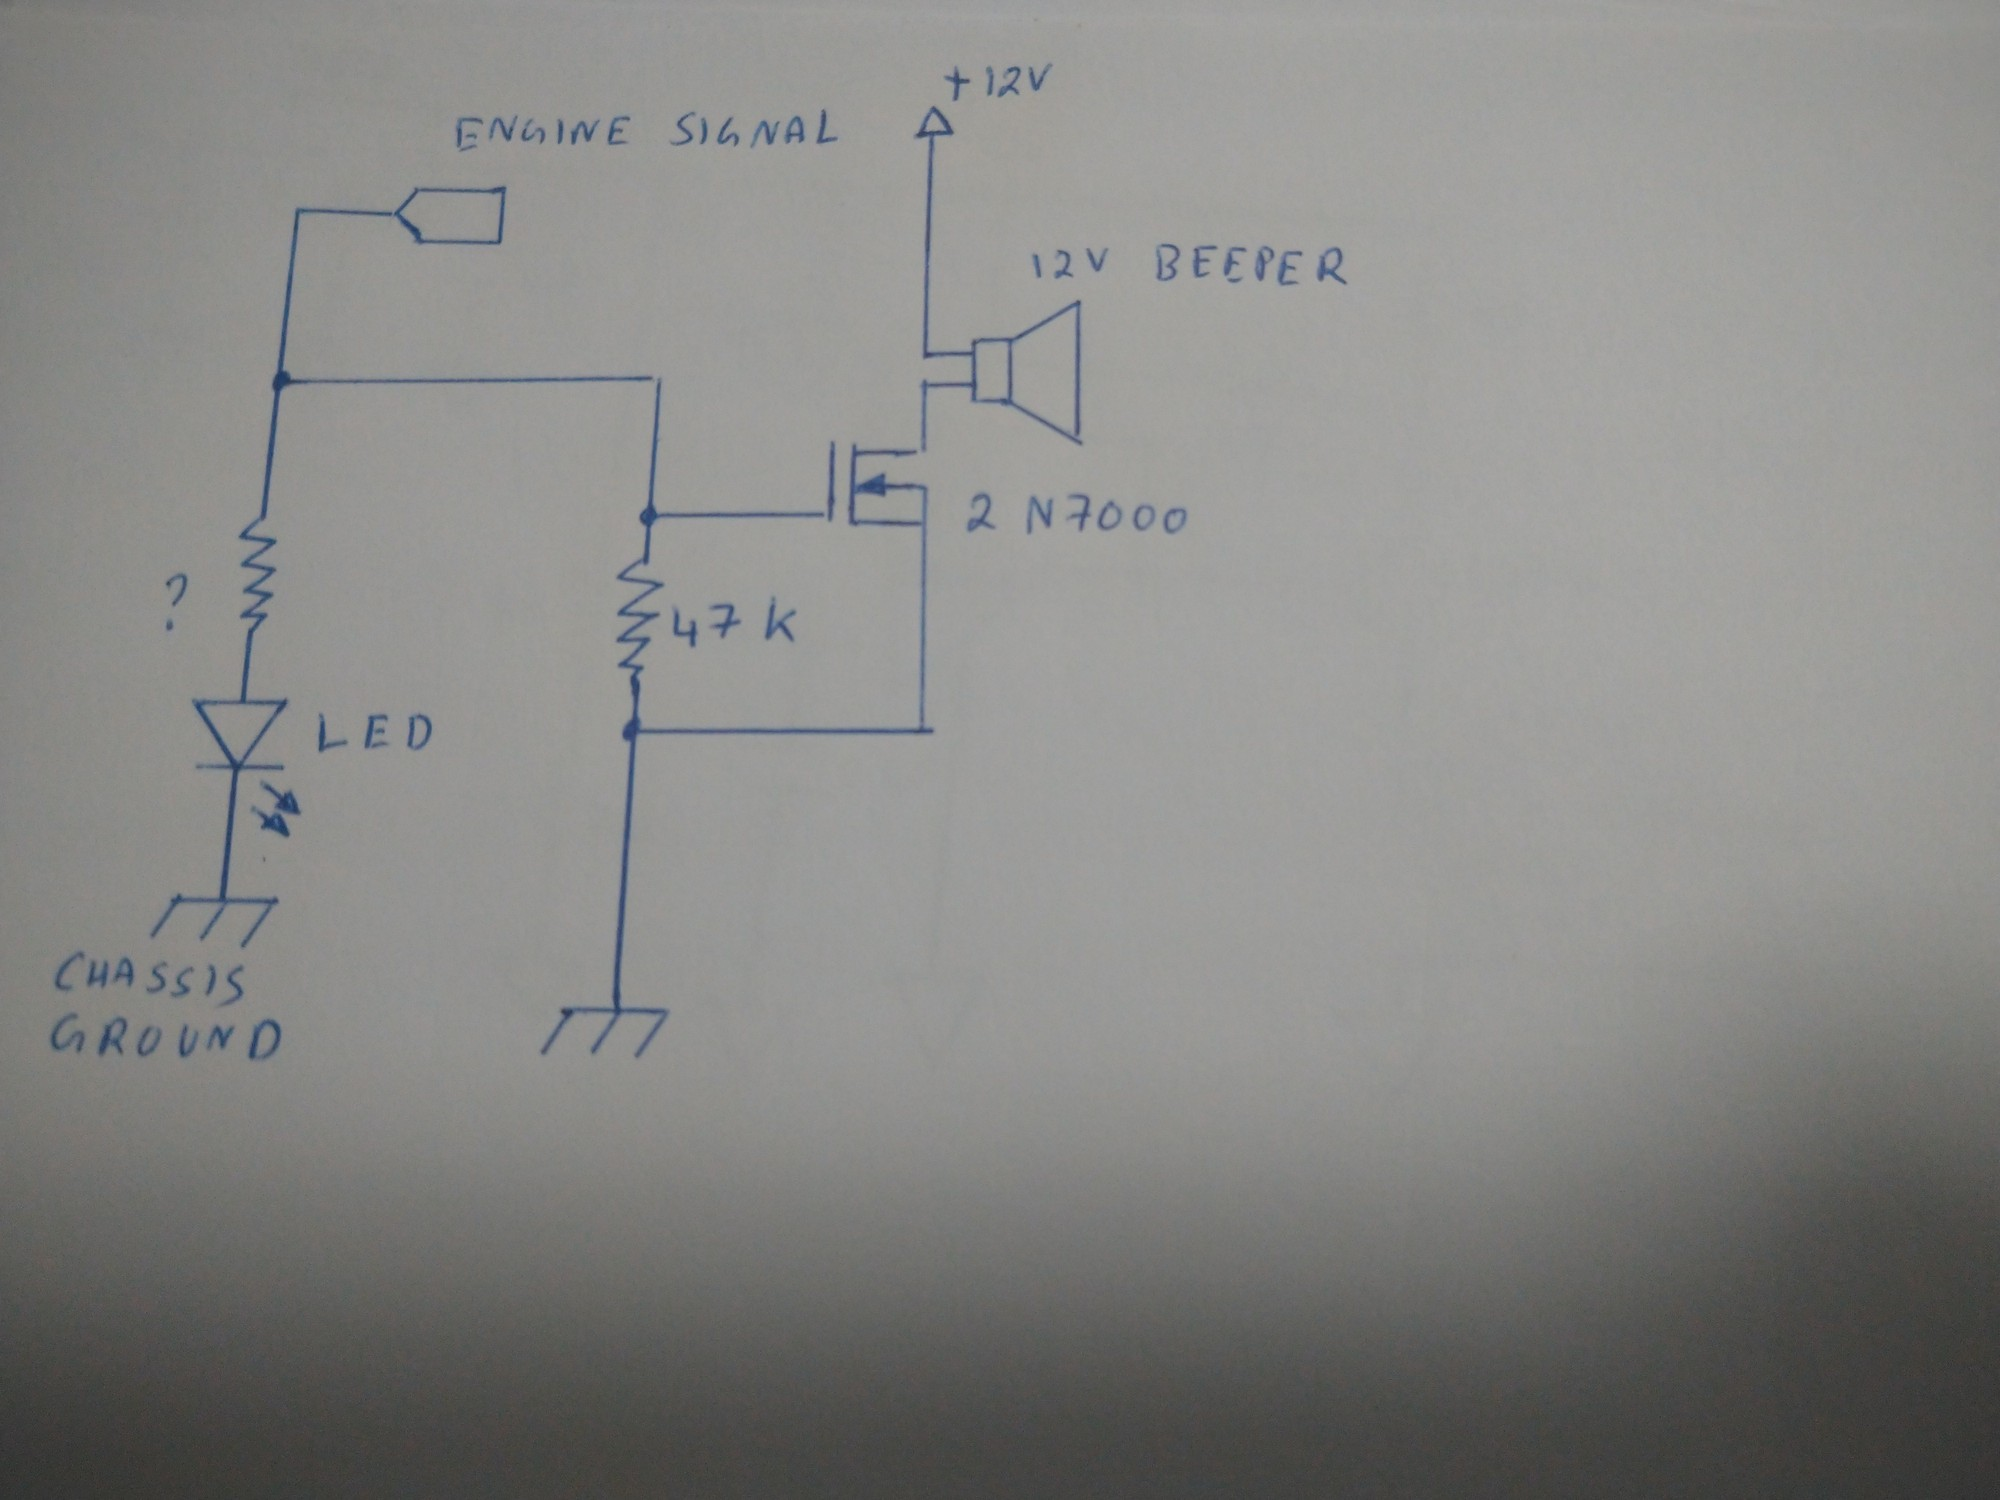diode.light_emitting: (184, 693, 306, 843)
gnd: (534, 1002, 676, 1064), (148, 890, 283, 953)
junction: (266, 364, 294, 397), (619, 712, 647, 744), (910, 715, 940, 744), (635, 499, 661, 529), (646, 369, 669, 391), (917, 340, 939, 364), (290, 200, 310, 224), (918, 377, 939, 397)
resistor: (609, 553, 668, 682), (233, 514, 280, 640)
speaker: (964, 296, 1090, 452)
terminal: (394, 183, 510, 251), (910, 101, 959, 143)
text: (449, 102, 844, 156), (46, 1008, 285, 1068), (959, 488, 1192, 544), (49, 952, 247, 1008), (1153, 239, 1353, 291), (669, 599, 803, 652), (313, 706, 435, 758), (937, 57, 1057, 106), (1028, 239, 1112, 287), (156, 570, 191, 637)
transistor: (816, 436, 937, 540)
